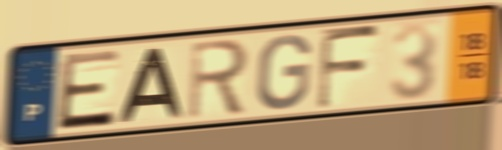3: (388, 19, 441, 103)
A: (116, 46, 187, 124)
E: (54, 46, 123, 133)
F: (313, 22, 383, 113)
G: (253, 32, 314, 113)
R: (185, 36, 252, 123)
